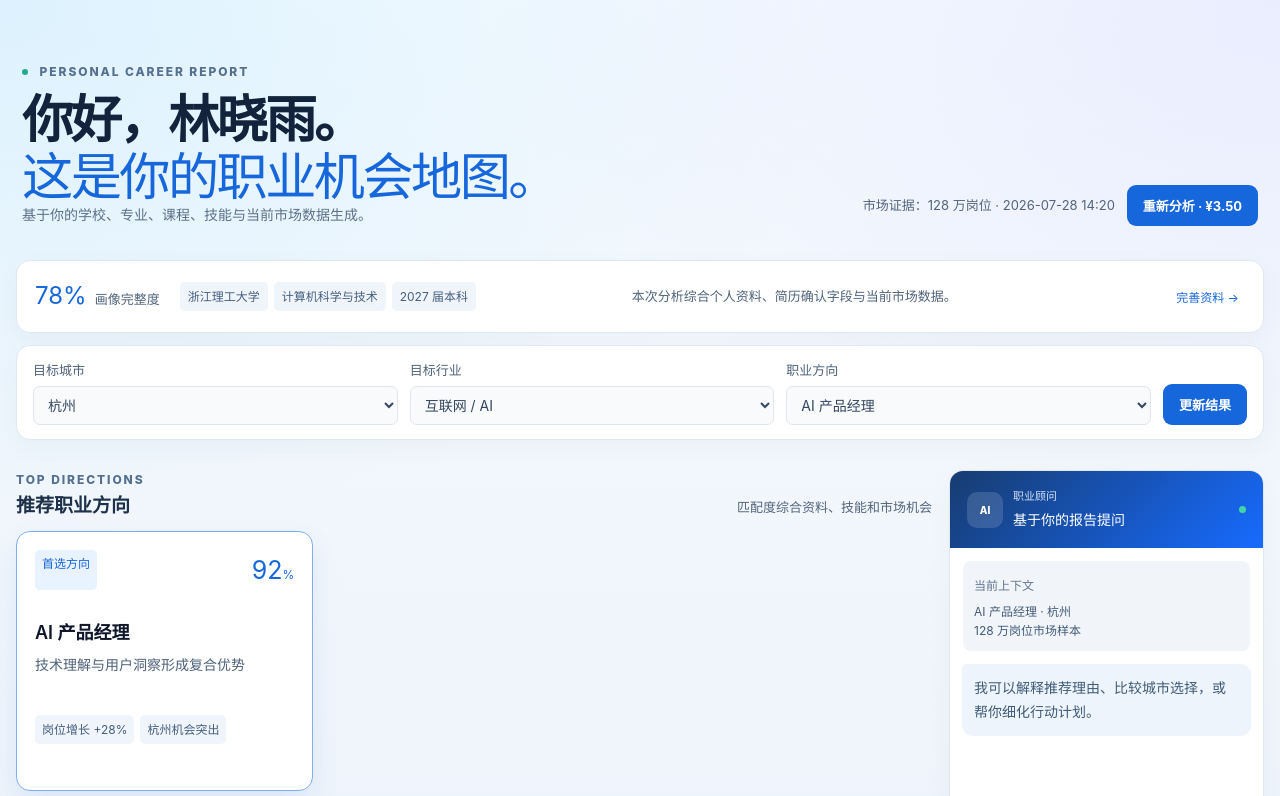
Test: CareerAnalysisView › maps an SSE provider balance failure to an actionable career error message
Click the button with test id "generate-analysis".
click(1192, 206)  # box [1127,185,1258,226]
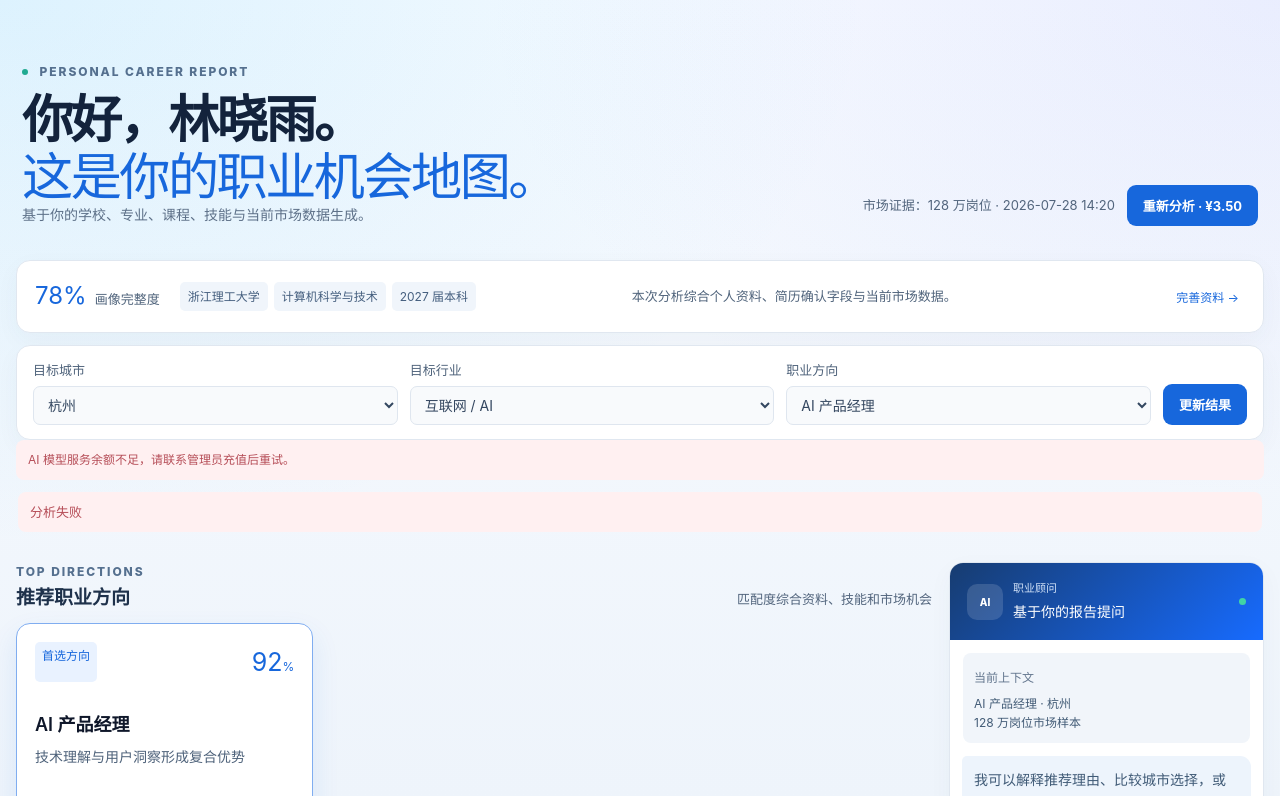
Now the text with class "error-message" shows "余额不足", box [28,452,295,467]
